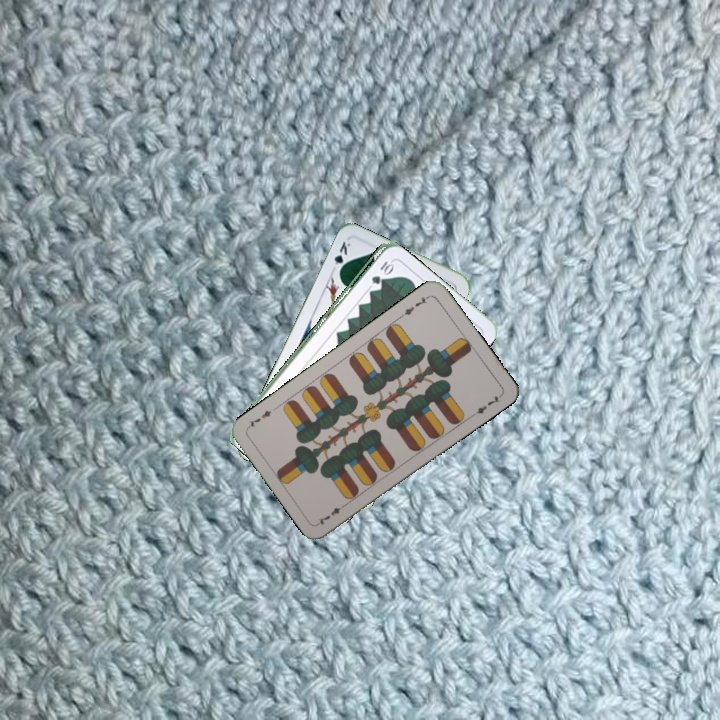E7: (397, 291, 432, 320), (314, 499, 350, 527)
G10: (367, 257, 395, 287)
GK: (329, 237, 353, 277)
